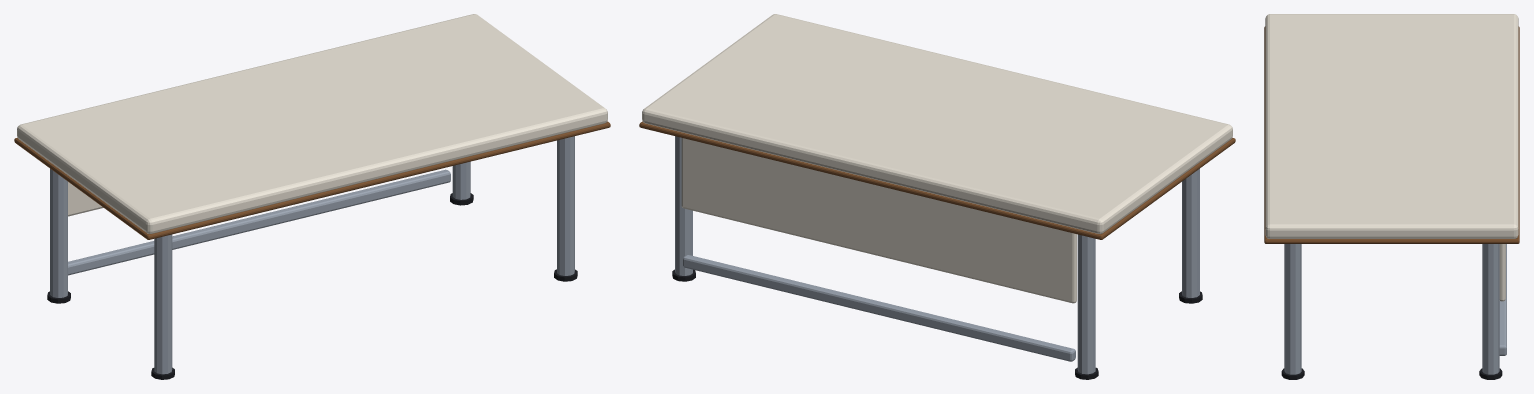
The model's file is desk.glb.
The picture shows the model from 3 angles, left to right: view 1: azimuth 30°, elevation 25°; view 2: azimuth 150°, elevation 25°; view 3: azimuth 270°, elevation 25°; orthographic projection. The views are drawn at different scales.
Visible parts, largest first — view 1: top; view 2: top; view 3: top.
Part boxes in pixels (<box>): top: <box>14,14,610,379</box>; top: <box>639,14,1235,379</box>; top: <box>1264,14,1519,379</box>.
Size of the model in its own units: 2.21 by 0.7801 by 1.11.
